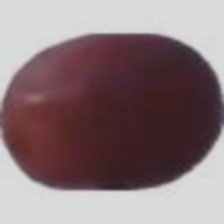grapes: (14, 11, 193, 171)
